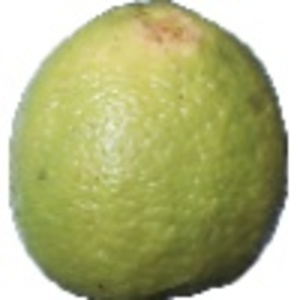limão: (7, 1, 289, 300)
